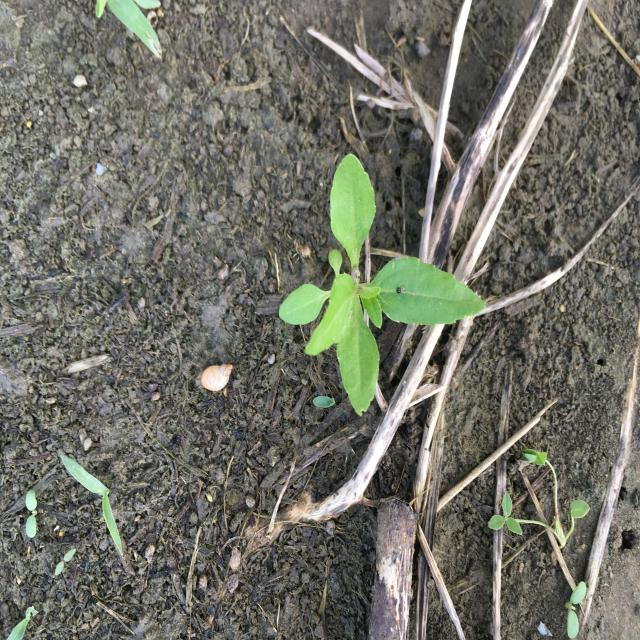Eclipta: (278, 151, 487, 419)
